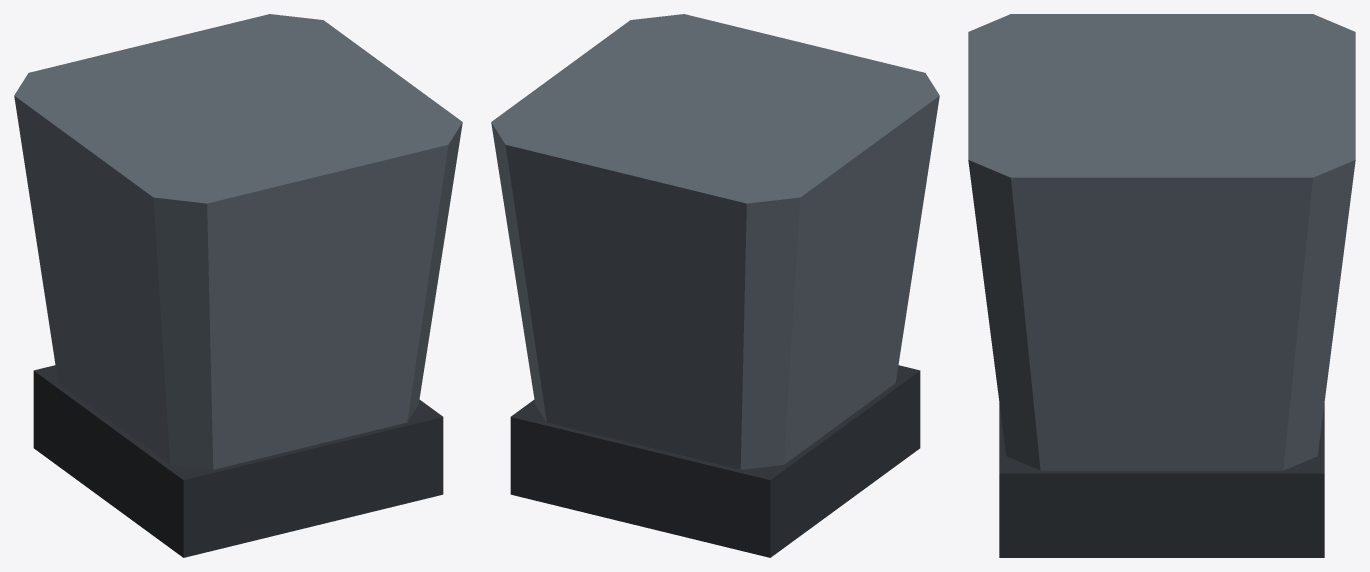
File: pc_assault_lower_arm.fbx
3 renders of one model, left to right at view 1: azimuth 30°, elevation 25°; view 2: azimuth 150°, elevation 25°; view 3: azimuth 270°, elevation 25°, orthographic. The views are drawn at different scales.
Visible parts, largest first — view 1: pc_assault_lower_arm; view 2: pc_assault_lower_arm; view 3: pc_assault_lower_arm.
Part boxes in pixels (box(x1,y1,x2,y2)): pc_assault_lower_arm: box(14, 14, 462, 557); pc_assault_lower_arm: box(491, 14, 939, 557); pc_assault_lower_arm: box(968, 14, 1355, 557).
Size of the model in its own units: 100 by 112 by 100.
